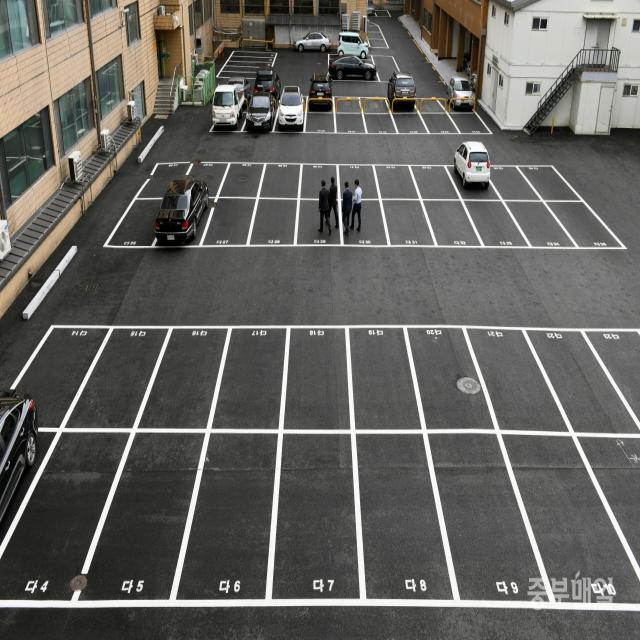empty: (73, 432, 208, 603), (1, 432, 131, 605), (171, 431, 280, 602), (354, 430, 454, 608), (271, 433, 364, 606), (526, 328, 639, 438), (0, 323, 112, 431), (62, 325, 171, 431), (467, 329, 571, 436), (134, 326, 232, 431), (406, 325, 495, 431), (209, 325, 289, 433), (346, 326, 423, 438), (279, 326, 354, 435)
